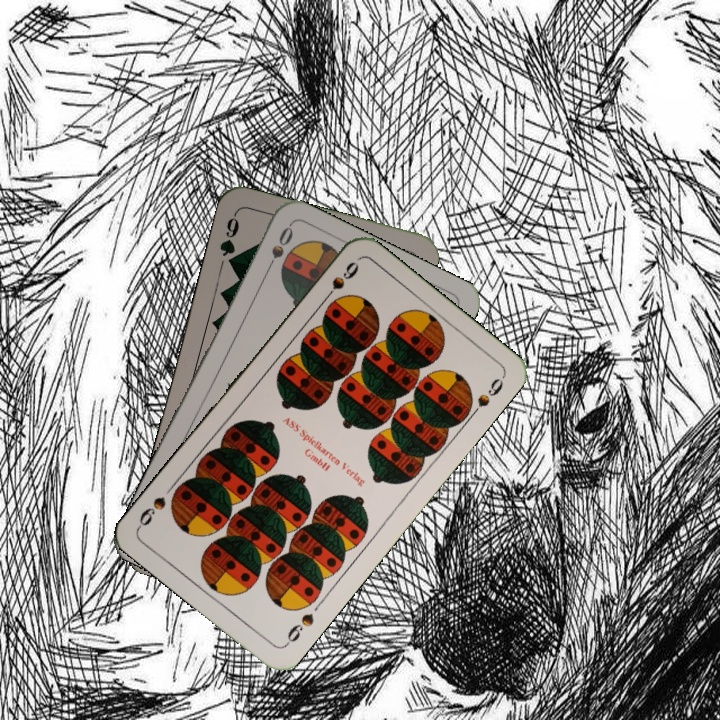G9: (215, 210, 242, 270)
S9: (318, 257, 362, 306), (280, 609, 317, 649)
SO: (261, 222, 296, 277)
